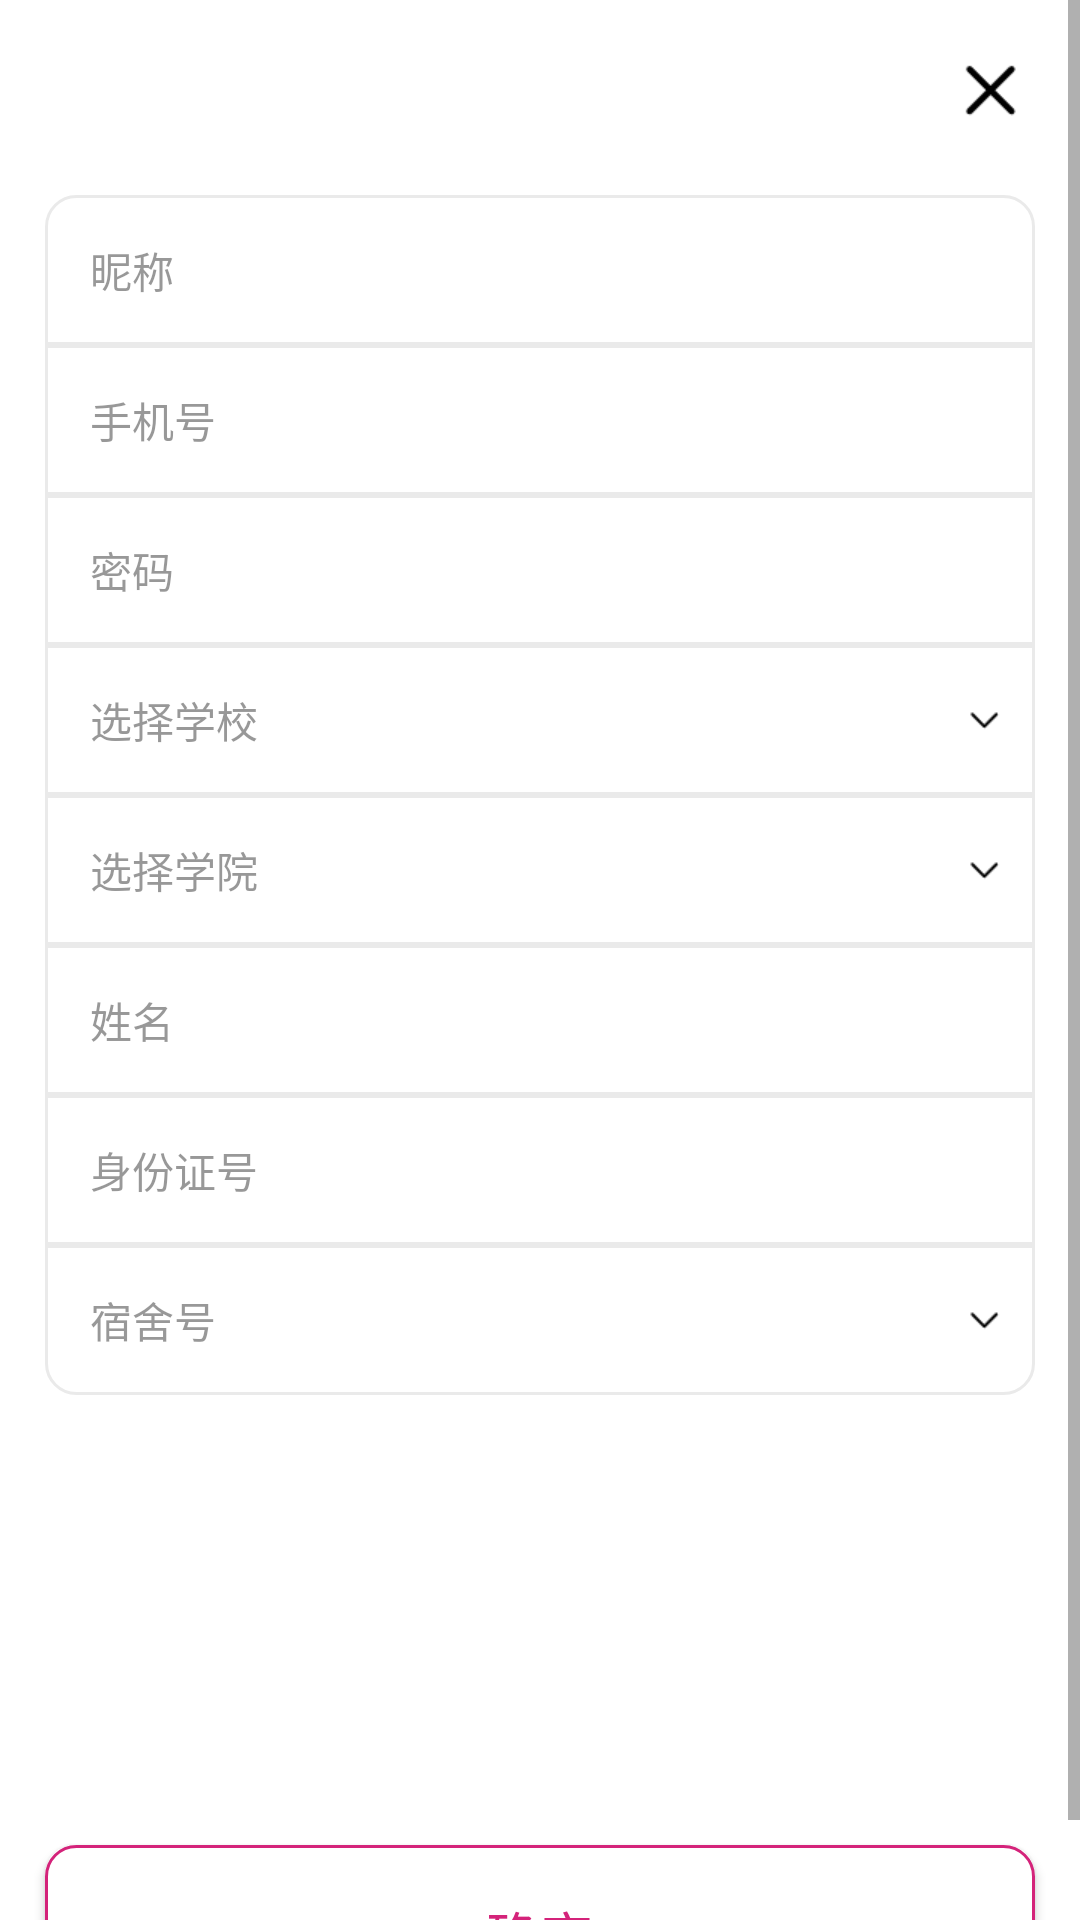

Icon click points for this 1080px×1920px phone screenshot, format [x,y]:
more pull: [984,720], [984,870], [984,1320]
